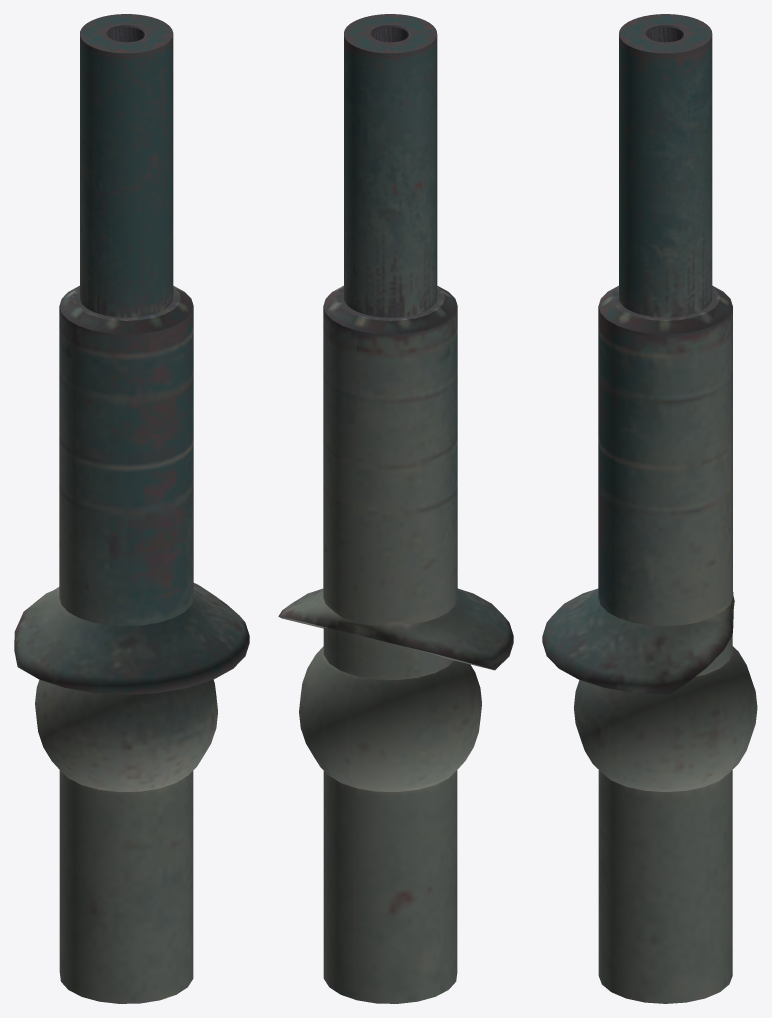
The model's file is Gun_01.glb.
The picture shows the model from 3 angles, left to right: view 1: azimuth 30°, elevation 25°; view 2: azimuth 150°, elevation 25°; view 3: azimuth 270°, elevation 25°; orthographic projection.
Parts seen in each view (by area): view 1: set_0_group_0; view 2: set_0_group_0; view 3: set_0_group_0.
Part boxes in pixels (x1=…): set_0_group_0: x1=14, y1=14, x2=249, y2=1003; set_0_group_0: x1=278, y1=14, x2=513, y2=1003; set_0_group_0: x1=542, y1=14, x2=757, y2=1003.
Bounding box in the file's own units: 0.5001 × 2.11 × 0.4365.
1 material, 1 textured.
